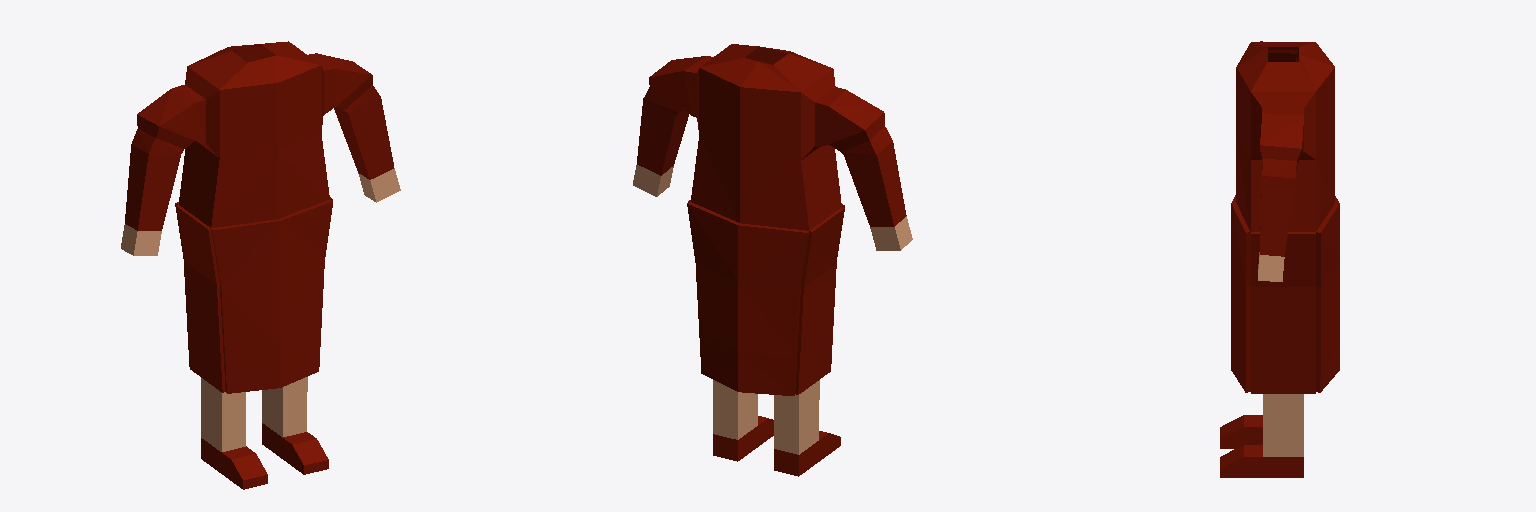
3 renders of one model, left to right at view 1: azimuth 30°, elevation 25°; view 2: azimuth 150°, elevation 25°; view 3: azimuth 270°, elevation 25°, orthographic.
Parts seen in each view (by area): view 1: Cube; view 2: Cube; view 3: Cube.
Part boxes in pixels (left/top/right/bottom): Cube: left=121, top=41, right=400, bottom=489; Cube: left=633, top=44, right=912, bottom=476; Cube: left=1220, top=41, right=1339, bottom=477.
Size of the model in its own units: 0.9062 by 1.3 by 0.351.
Materials: 1 (1 with a texture image).